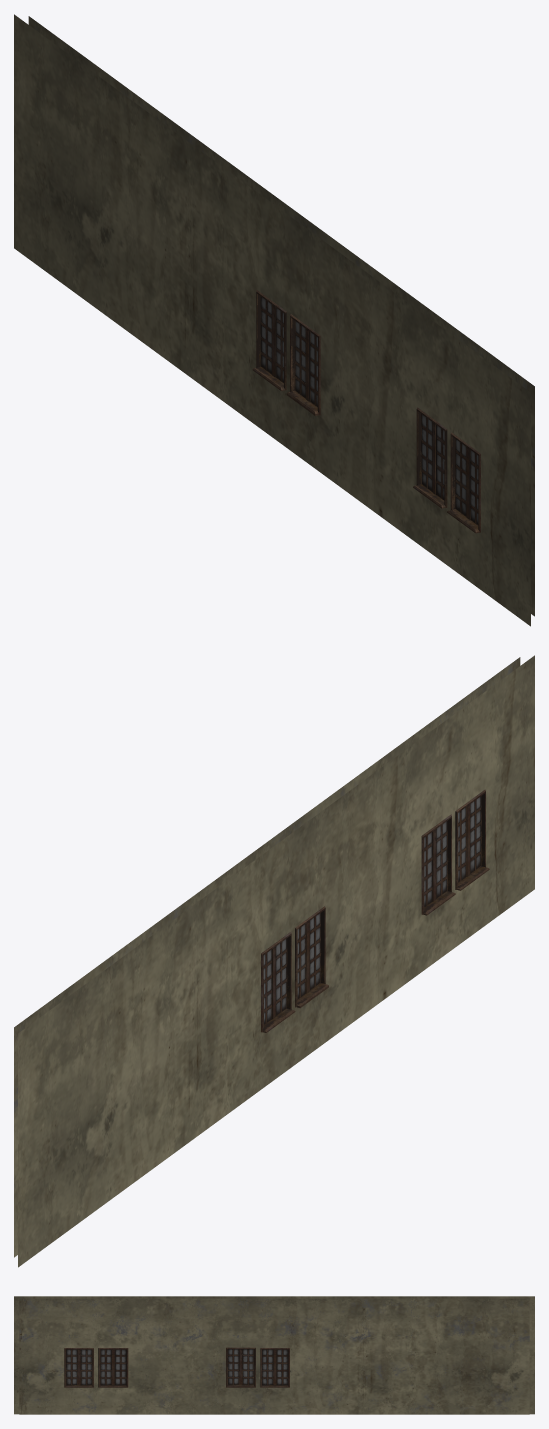
The model's file is Support House Back.fbx.
The picture shows the model from 3 angles, top to bottom: view 1: azimuth 30°, elevation 25°; view 2: azimuth 150°, elevation 25°; view 3: azimuth 270°, elevation 25°; orthographic projection. The views are drawn at different scales.
Visible parts, largest first — view 1: Parede com porta .003; view 2: Parede com porta .003; view 3: Parede com porta .003.
Part boxes in pixels (bbox=[...]): Parede com porta .003: bbox=[14, 14, 534, 626]; Parede com porta .003: bbox=[14, 655, 534, 1267]; Parede com porta .003: bbox=[14, 1296, 534, 1414].
Size of the model in its own units: 24.41 by 356 by 1425.
